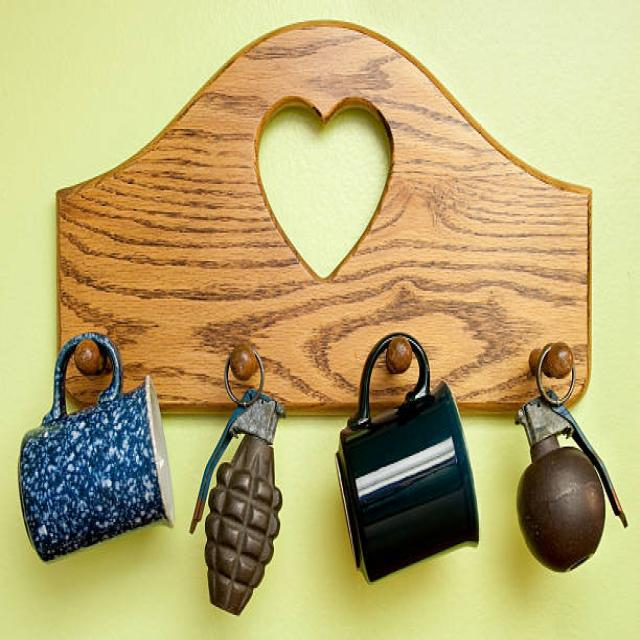grenade: (192, 346, 294, 619), (520, 345, 635, 574)
